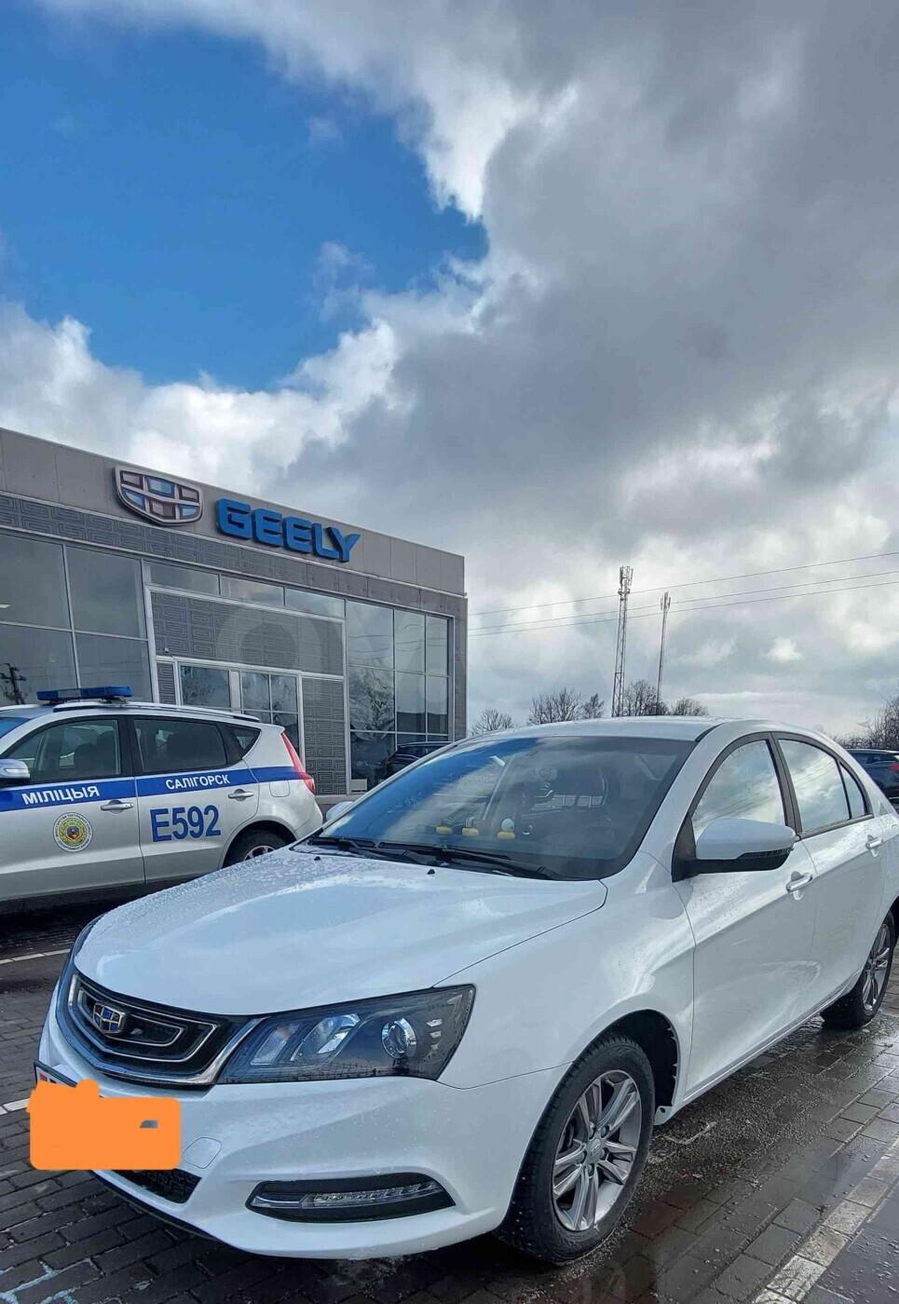Emgrand_2019-2021: (35, 720, 898, 1264)
